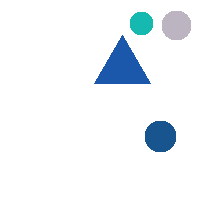circle: (145, 121, 175, 151), (162, 11, 190, 39), (130, 12, 152, 34)
triangle: (94, 35, 150, 83)
